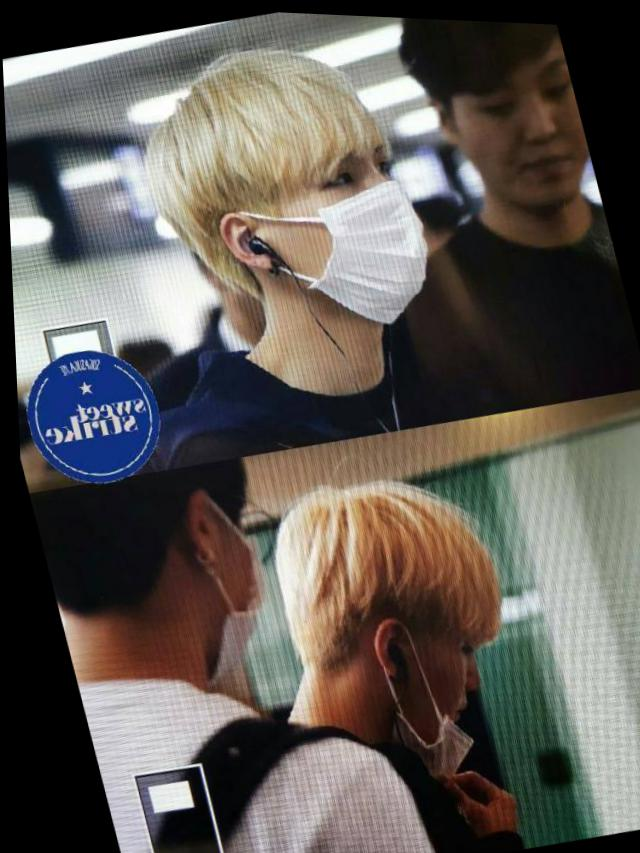NONE: (446, 51, 599, 218)
OK: (221, 118, 446, 344)
WRONG: (352, 607, 501, 773)
